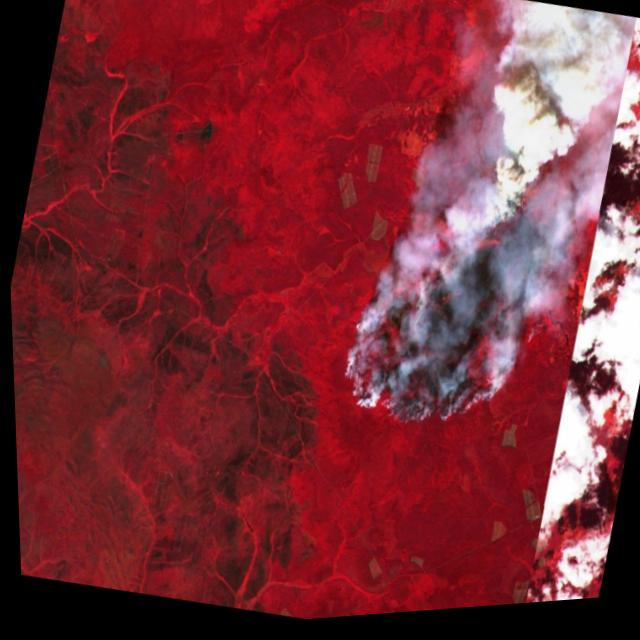fire: (317, 148, 590, 465)
